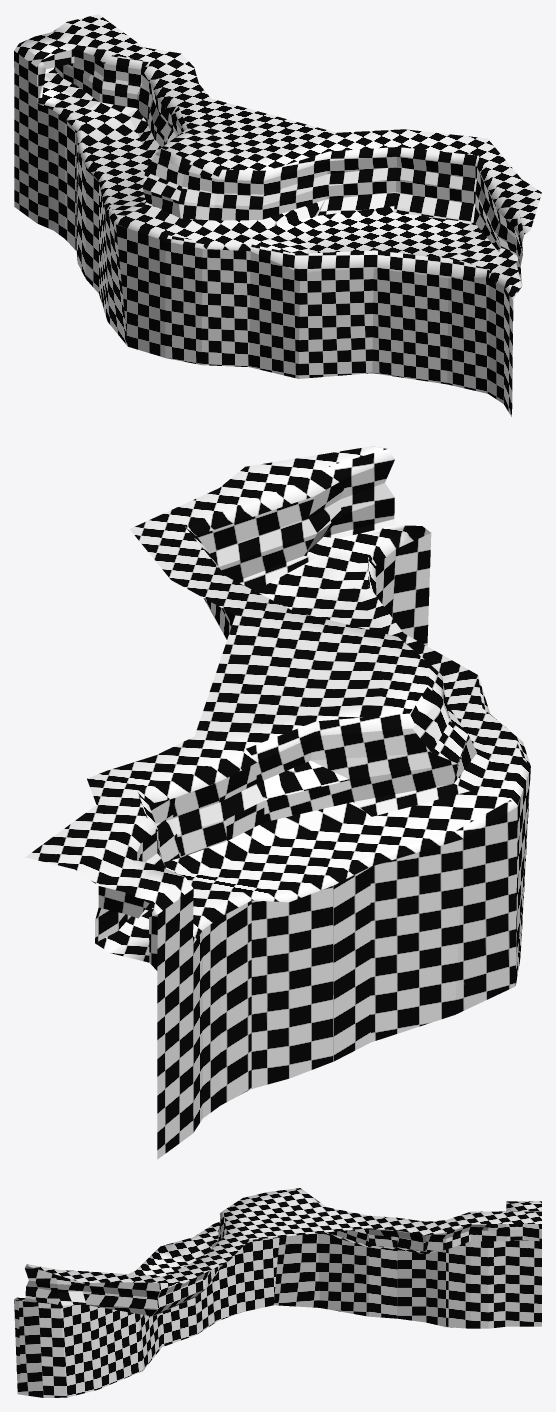
File: puzzle3.fbx
3 renders of one model, top to bottom at view 1: azimuth 30°, elevation 25°; view 2: azimuth 150°, elevation 25°; view 3: azimuth 270°, elevation 25°, orthographic. The views are drawn at different scales.
Parts seen in each view (by area): view 1: Puzzle3; view 2: Puzzle3; view 3: Puzzle3.
Part boxes in pixels (<box>): Puzzle3: <box>14,14,541,416</box>; Puzzle3: <box>25,446,530,1159</box>; Puzzle3: <box>14,1188,541,1397</box>.
Bounding box in the file's own units: 6278 × 11821 × 3572.
